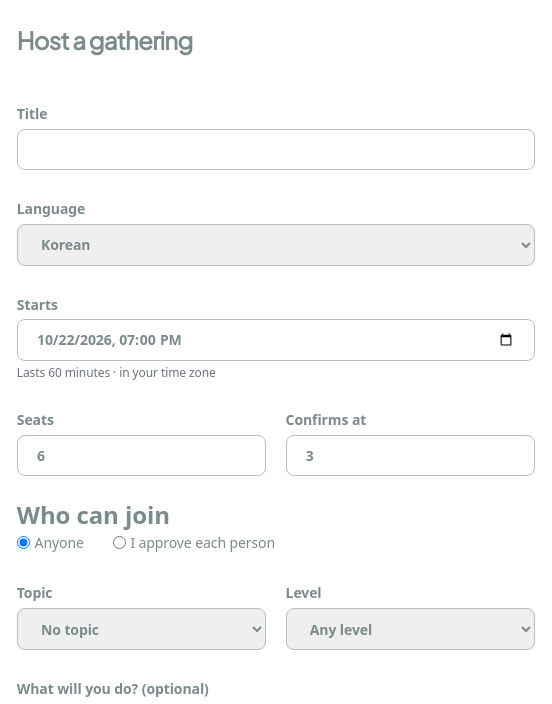
Test: shows field errors and does not submit
Clear the field with test id "gf-title" at coordinates (276, 149), box [17, 129, 535, 170]
(page scrolled)
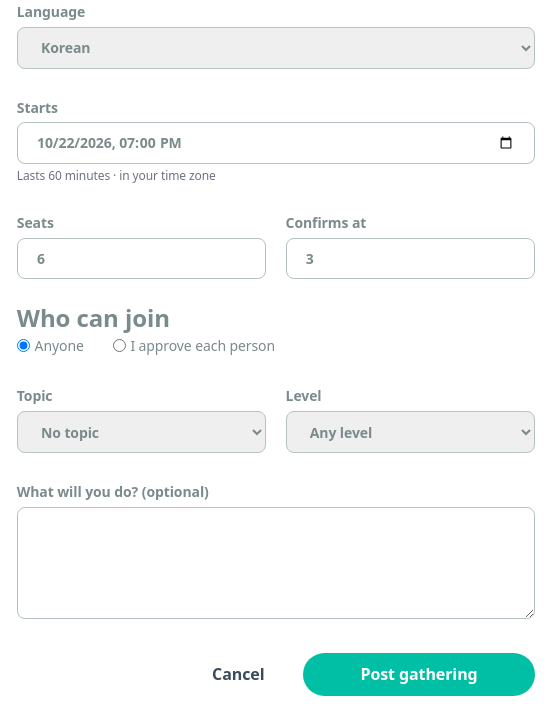
Click the button with test id "gf-submit" at coordinates (419, 674), box [303, 653, 535, 696]
(page scrolled)
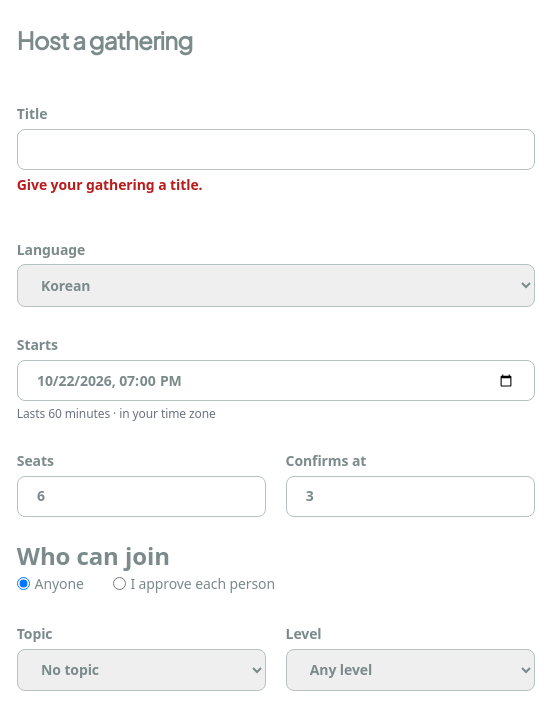
Now the text with test id "gf-error-title" reads "Give your gathering a title.", box [17, 175, 202, 194]
